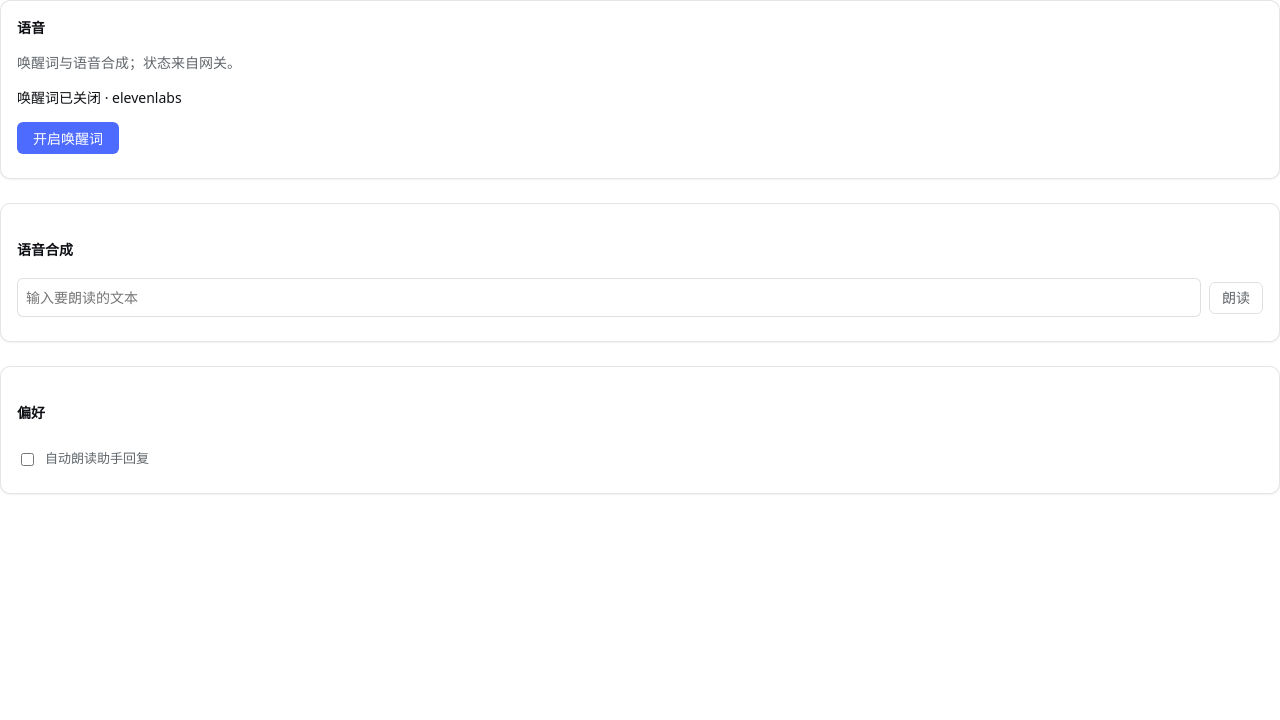
it: VoicePanel T18.7 语音（C04 订正：wake.status/start/stop） › speaks via voice.tts
This screenshot has width=1280, height=720.
Expected: the text named "语音状态" is shown, [17,88,182,107]
Type "你好" into the field labelled "输入要朗读的文本" at (609, 298), box [17,278,1201,317]
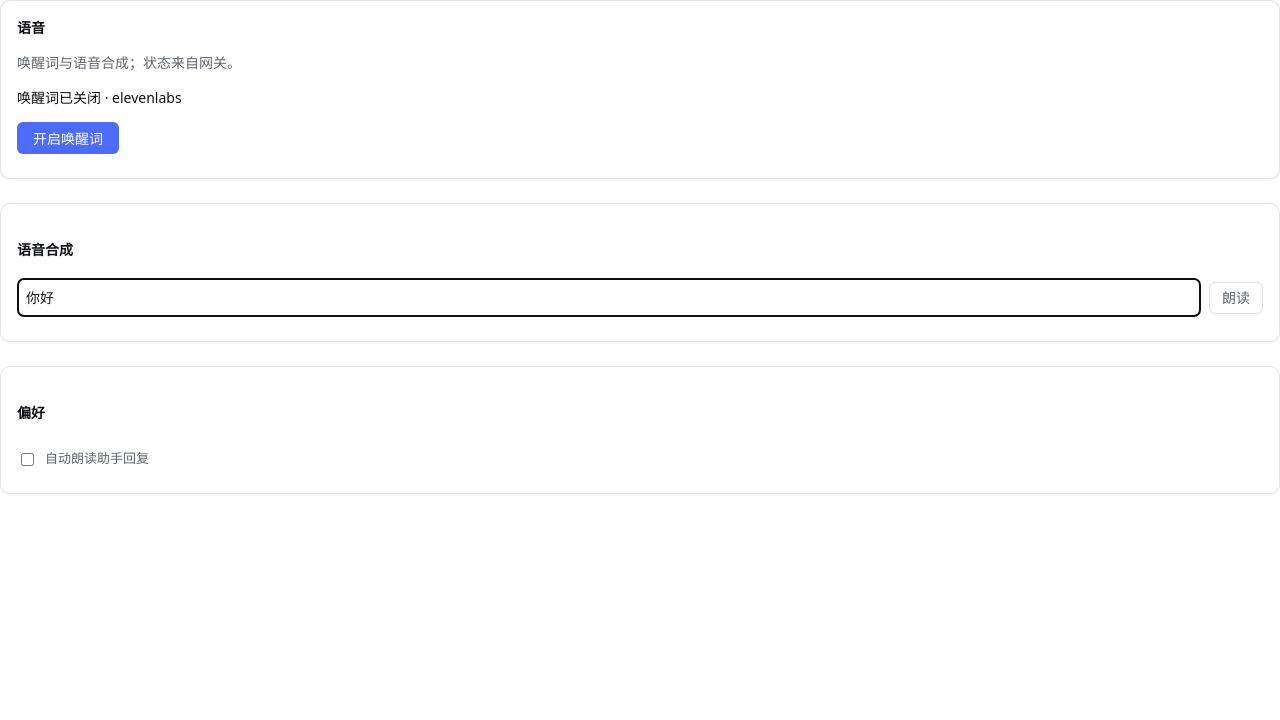
Click the button "朗读" at (1236, 298), box [1209,282,1263,314]
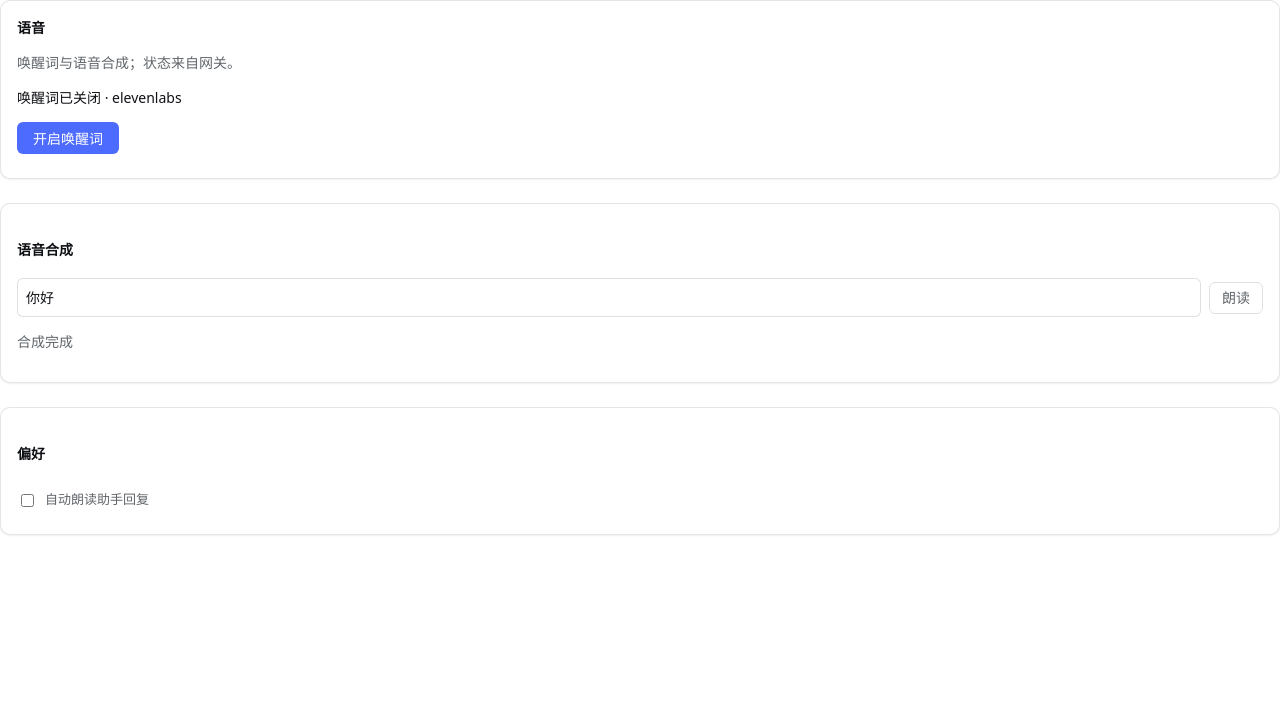
Expected: the text labelled "合成完成" is shown, [17,332,73,351]
